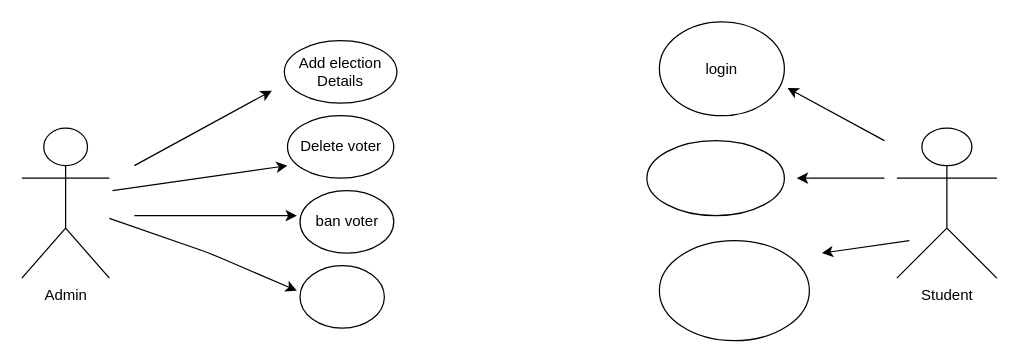
The diagram is 1019 pixels wide and 363 high, and some of its shapes have lost their labels. Here are the shapes that lost their labels. From the top down, the box of each, then its label:
(646, 139, 784, 216): Vote
(299, 264, 384, 328): view result
(658, 239, 809, 341): logout
